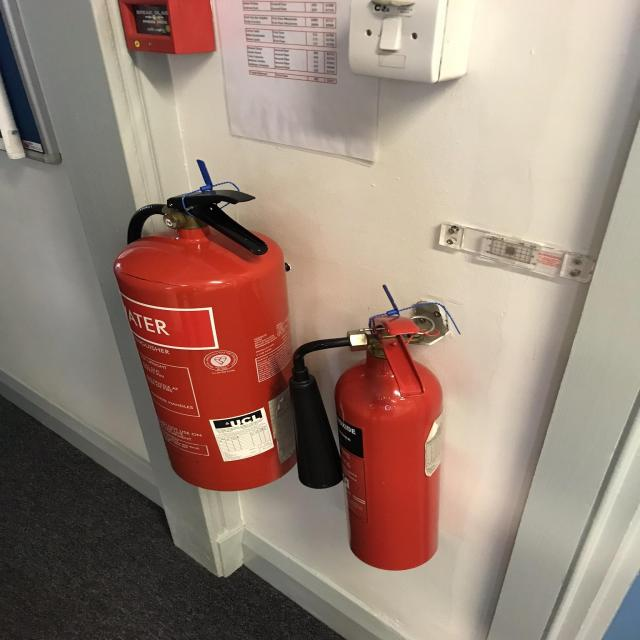fire_extinguisher: (106, 187, 312, 493), (285, 307, 448, 573)
